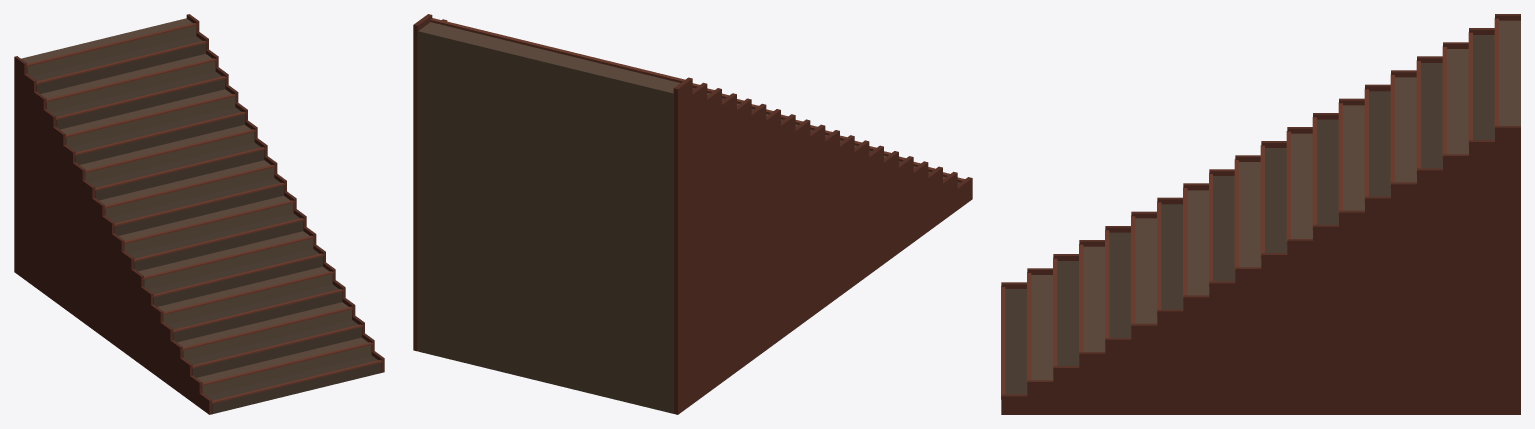
The model's file is SM_ENV_Escada.fbx.
The picture shows the model from 3 angles, left to right: view 1: azimuth 30°, elevation 25°; view 2: azimuth 150°, elevation 25°; view 3: azimuth 270°, elevation 25°; orthographic projection. The views are drawn at different scales.
Visible parts, largest first — view 1: SM_ENV_Escada; view 2: SM_ENV_Escada; view 3: SM_ENV_Escada.
Boxes of the visible parts, <box> form: SM_ENV_Escada: <box>14,14,384,414</box>; SM_ENV_Escada: <box>413,14,972,414</box>; SM_ENV_Escada: <box>1001,14,1520,414</box>.
Size of the model in its own units: 3.11 by 3.66 by 6.01.
